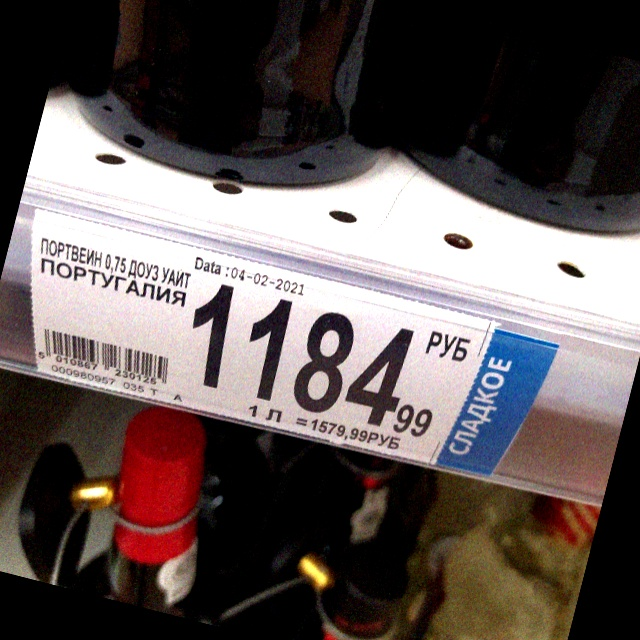barcode: (37, 326, 174, 388)
name: (36, 228, 195, 312)
price: (190, 279, 439, 445)
price_tag: (33, 206, 500, 478)
